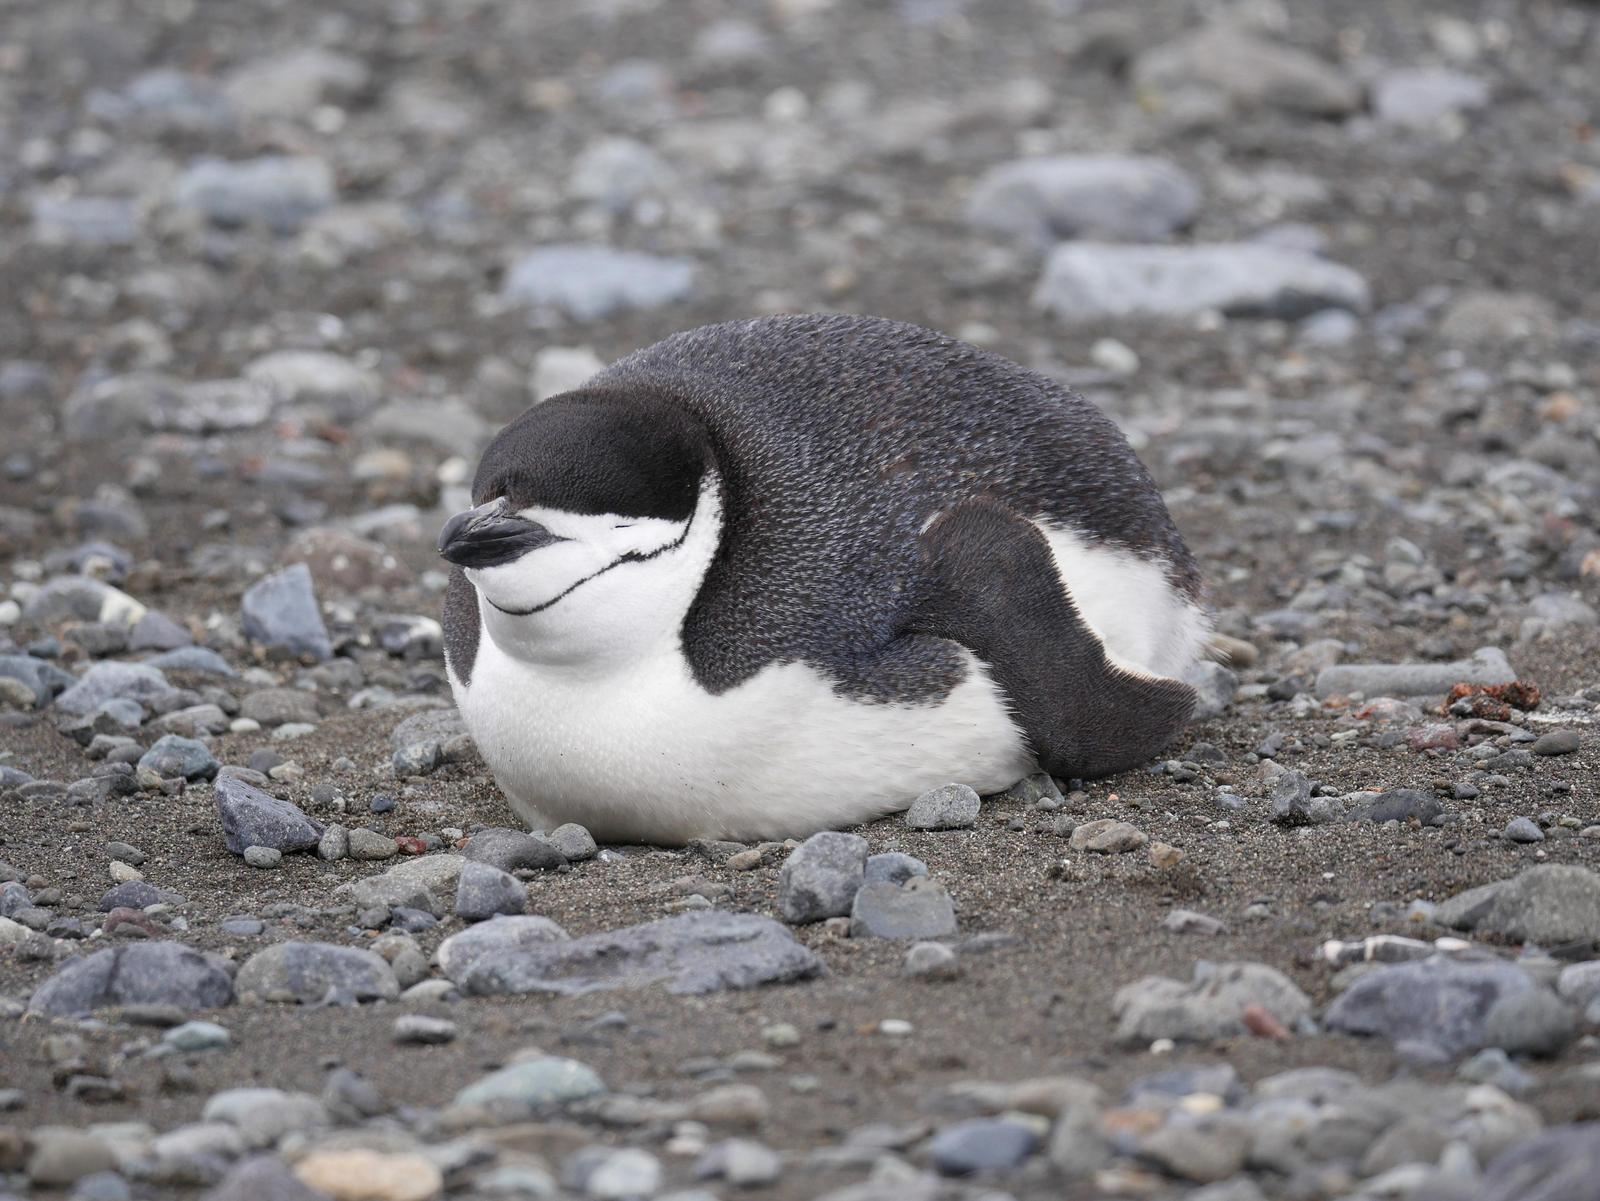chinstrap: (411, 272, 1229, 847)
